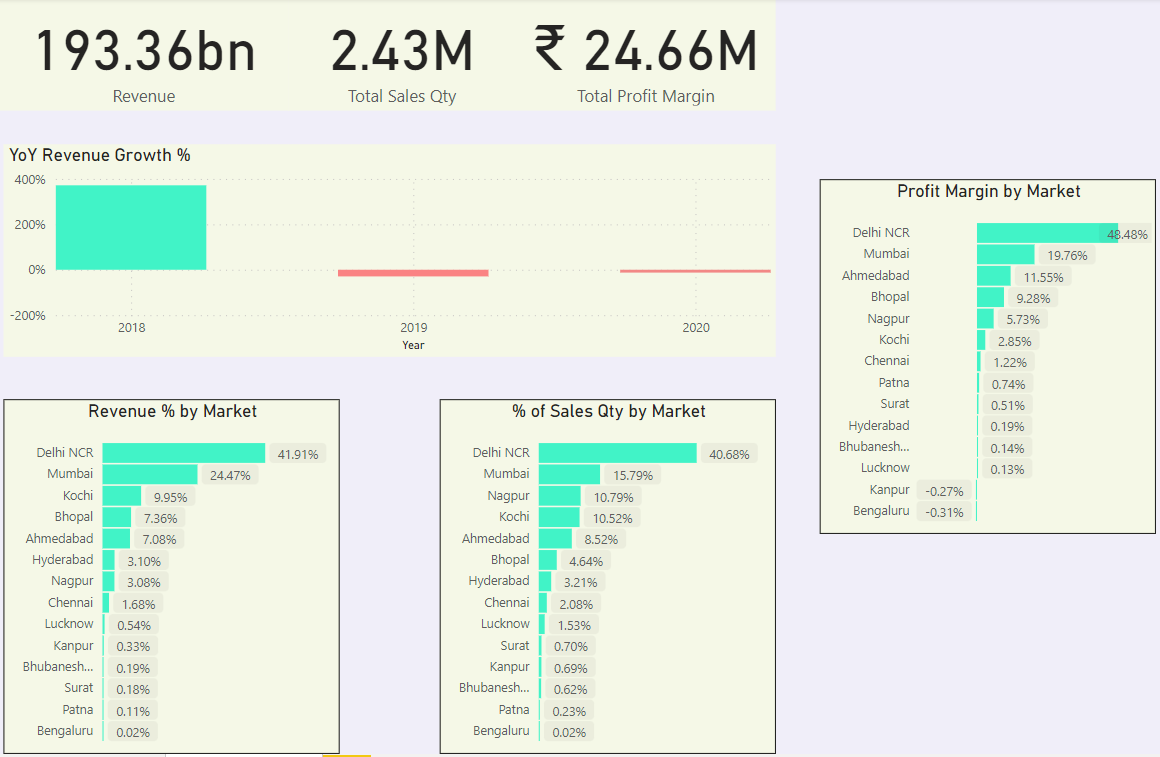

Layout of this report page (visuals, bound fields, positions):
{"tool":"powerbi","page":{"name":"Market Insights","canvas":[1280,720],"ordinal":1},"visuals":[{"type":"card","fields":{"Values":["BaseMeasure.Revenue"]},"box":[37.1,0,274.9,107.1],"z":0},{"type":"card","fields":{"Values":["BaseMeasure.Total Sales Qty"]},"box":[312,0,216.6,107.1],"z":1000},{"type":"barChart","title":"Revenue % by Market","fields":{"Y":["BaseMeasure.Revenue"],"Category":["markets.markets_name"]},"box":[40.5,382,320.1,338],"z":2000},{"type":"barChart","title":"% of Sales Qty by Market","fields":{"Y":["BaseMeasure.Total Sales Qty"],"Category":["markets.markets_name"]},"box":[455.8,382,320.1,338],"z":3000},{"type":"actionButton","box":[0,75,40.5,32.1],"z":4000},{"type":"barChart","title":"Profit Margin by Market","fields":{"Category":["markets.markets_name"],"Y":["BaseMeasure.Total Profit Margin1"]},"box":[860.4,382,320.1,338],"z":5000},{"type":"card","fields":{"Values":["BaseMeasure.Total Profit Margin"]},"box":[528.6,0,247.5,107.1],"z":6000},{"type":"lineStackedColumnComboChart","title":"YoY Revenue Growth %","fields":{"Category":["date.date.Variation.Date Hierarchy.Year","date.date.Variation.Date Hierarchy.Quarter","date.date.Variation.Date Hierarchy.Month","date.date.Variation.Date Hierarchy.Day"],"Y":["BaseMeasure.YOY Revenue Growth %"]},"box":[40.5,139.2,735.5,202.3],"z":11000}]}

Visuals, with their boxes on the page's 1280x720 design canvas (x1, y1, x2, y2). These are canvas units, not pixel positions in the 1160x757 screenshot, which may show the page scaled, cropped or inside an application window:
card - BaseMeasure.Revenue: (x1=37, y1=0, x2=312, y2=107)
card - BaseMeasure.Total Sales Qty: (x1=312, y1=0, x2=529, y2=107)
"Revenue % by Market" barChart: (x1=40, y1=382, x2=361, y2=720)
"% of Sales Qty by Market" barChart: (x1=456, y1=382, x2=776, y2=720)
actionButton: (x1=0, y1=75, x2=40, y2=107)
"Profit Margin by Market" barChart: (x1=860, y1=382, x2=1180, y2=720)
card - BaseMeasure.Total Profit Margin: (x1=529, y1=0, x2=776, y2=107)
"YoY Revenue Growth %" lineStackedColumnComboChart: (x1=40, y1=139, x2=776, y2=342)
